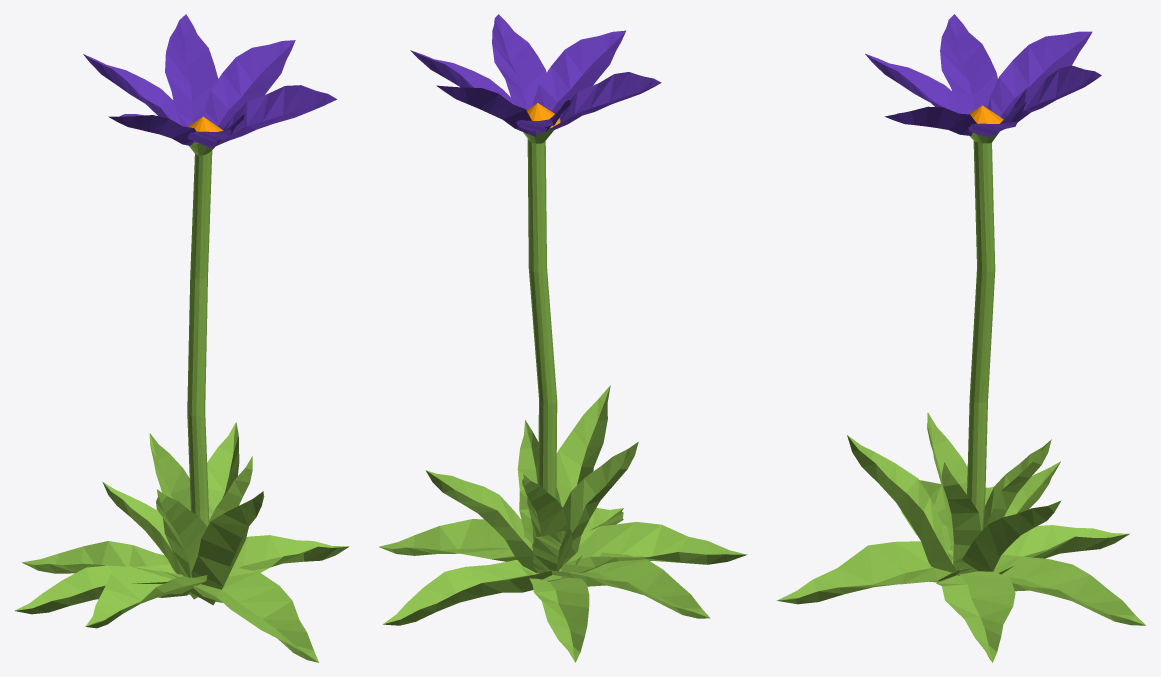
The model's file is purpleLong.glb.
The picture shows the model from 3 angles, left to right: view 1: azimuth 30°, elevation 25°; view 2: azimuth 150°, elevation 25°; view 3: azimuth 270°, elevation 25°; orthographic projection. The views are drawn at different scales.
Parts seen in each view (by area): view 1: group481568313, group783281343, group1552697363, group2059789359, group1758196251, group266082552, group1928658340, group595482761, group158731365, group1439209696, group1238384977, group1366698634 (+6 smaller); view 2: group481568313, group266082552, group303338039, group158731365, group401147796, group1439209696, group1990659664, group595482761, group1758196251, group1928658340, group1238384977, group1450367602 (+7 smaller); view 3: group481568313, group783281343, group303338039, group1758196251, group1439209696, group1366698634, group1450367602, group595482761, group1990659664, group1945249999, group2059789359, group1318692651 (+6 smaller).
Boxes of the visible parts, x1,y1,x2,y2 form: group481568313: [187, 116, 223, 526]; group783281343: [165, 567, 318, 662]; group1552697363: [204, 40, 295, 129]; group2059789359: [165, 14, 218, 126]; group1758196251: [188, 491, 264, 605]; group266082552: [85, 565, 207, 628]; group1928658340: [215, 85, 337, 146]; group595482761: [21, 541, 189, 594]; group158731365: [14, 564, 189, 614]; group1439209696: [233, 535, 348, 572]; group1238384977: [156, 489, 207, 599]; group1366698634: [83, 54, 184, 126]; group481568313: [523, 103, 560, 499]; group266082552: [537, 522, 747, 581]; group303338039: [382, 560, 554, 625]; group158731365: [545, 552, 710, 618]; group401147796: [533, 30, 625, 113]; group1439209696: [379, 519, 516, 561]; group1990659664: [425, 470, 539, 573]; group595482761: [521, 567, 589, 662]; group1758196251: [556, 385, 610, 552]; group1928658340: [492, 14, 546, 110]; group1238384977: [560, 442, 638, 568]; group1450367602: [550, 72, 661, 129]; group481568313: [967, 105, 1003, 531]; group783281343: [777, 541, 973, 604]; group303338039: [994, 554, 1145, 625]; group1758196251: [847, 435, 959, 575]; group1439209696: [936, 571, 1015, 662]; group1366698634: [987, 31, 1092, 119]; group1450367602: [940, 14, 997, 114]; group595482761: [998, 525, 1129, 574]; group1990659664: [962, 500, 1061, 571]; group1945249999: [942, 462, 981, 574]; group2059789359: [1000, 65, 1101, 130]; group1318692651: [983, 439, 1051, 529].
Size of the model in its own units: 1.7 by 2.59 by 1.6.
